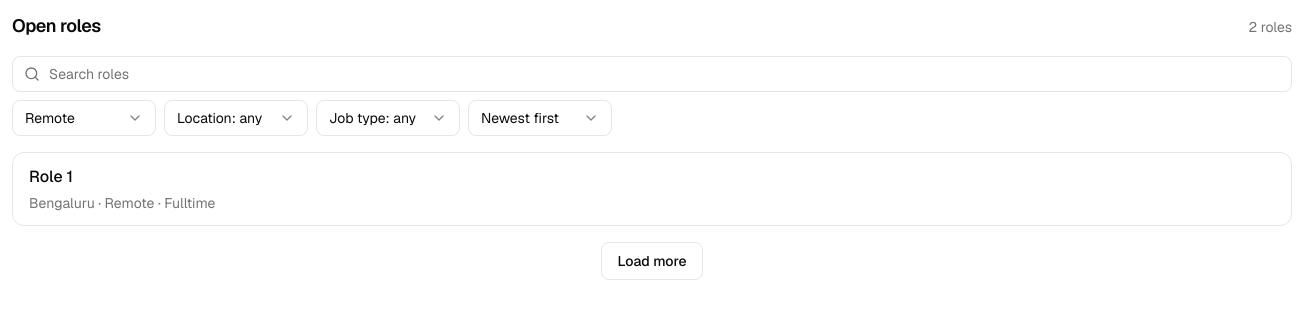
Test: CareersJobs (CP-REQ-005) › loads the next page from the API and appends it
Click the button "Load more": coordinates (652, 261) [600, 242, 704, 280]
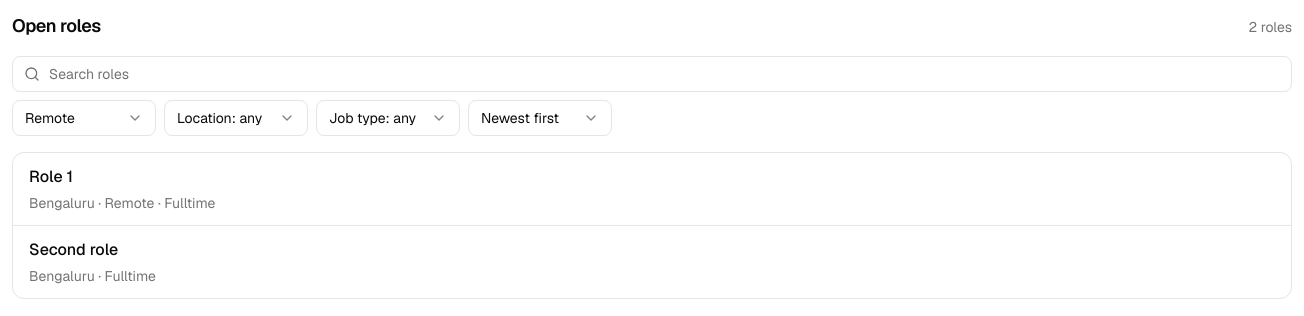
expect the link "Role 1 Bengaluru · Remote · Fulltime" is shown: met, box [29, 166, 216, 212]
expect the button "Load more" is gone: met
